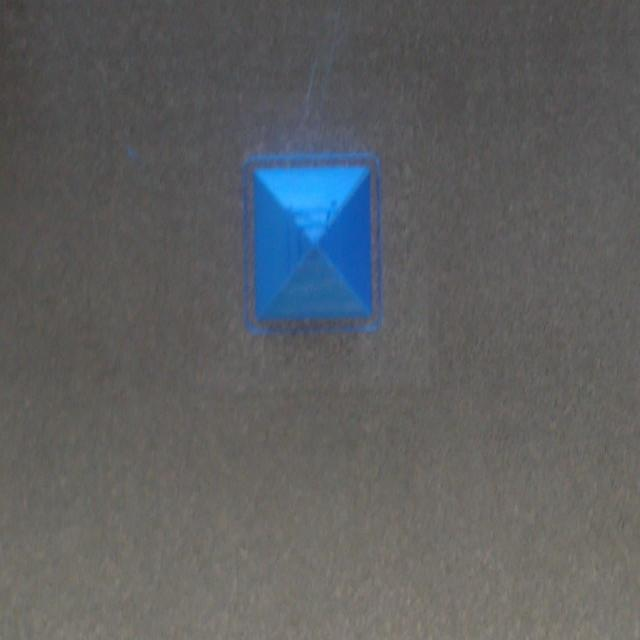mistake: (286, 203, 341, 257)
